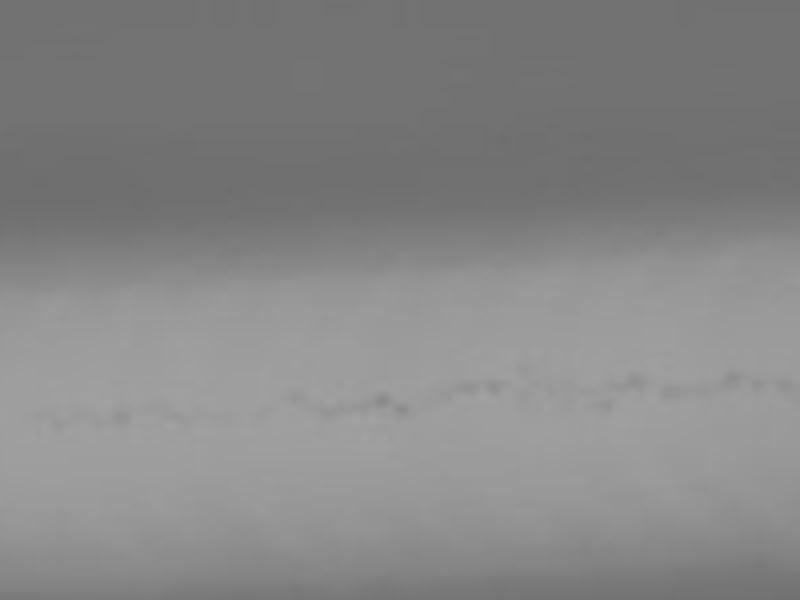defect: (610, 367, 652, 394), (660, 382, 704, 403), (40, 406, 78, 428), (306, 399, 347, 418), (488, 372, 510, 401), (512, 355, 537, 379), (282, 383, 309, 405), (719, 368, 744, 391), (451, 376, 481, 394), (772, 372, 795, 395), (163, 403, 186, 423), (589, 400, 615, 417), (374, 389, 393, 410), (748, 375, 767, 396), (115, 409, 136, 427), (395, 401, 412, 417)
